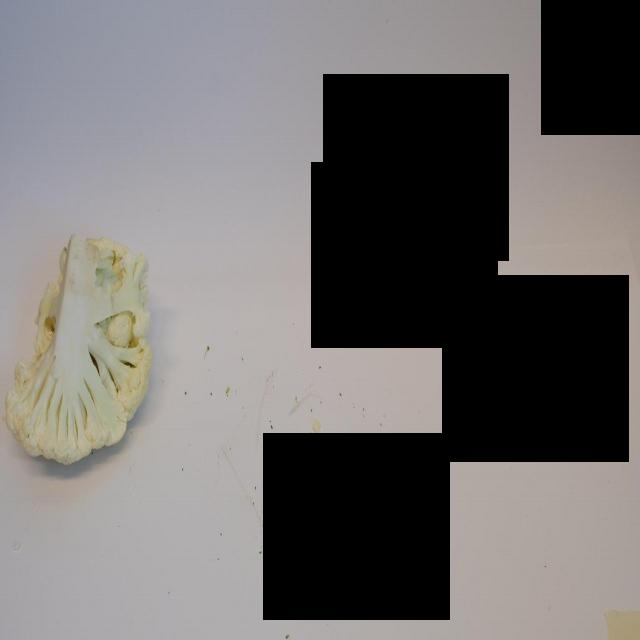cauliflower: (4, 230, 155, 467)
